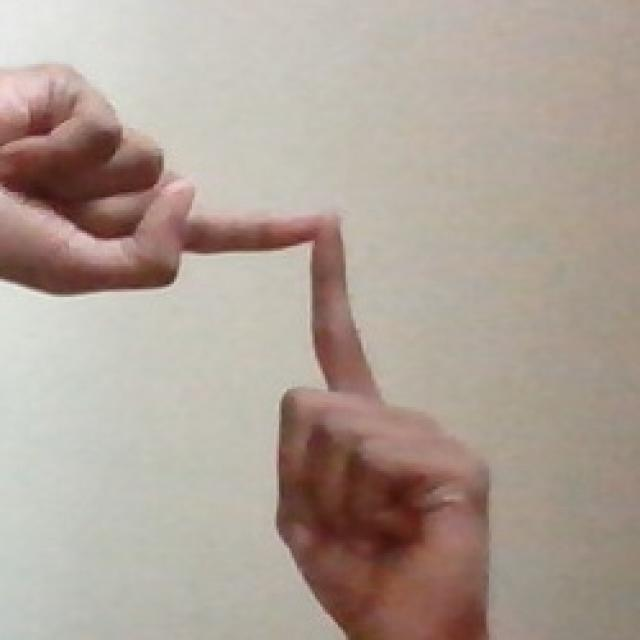Alphabet-E: (1, 64, 320, 294)
